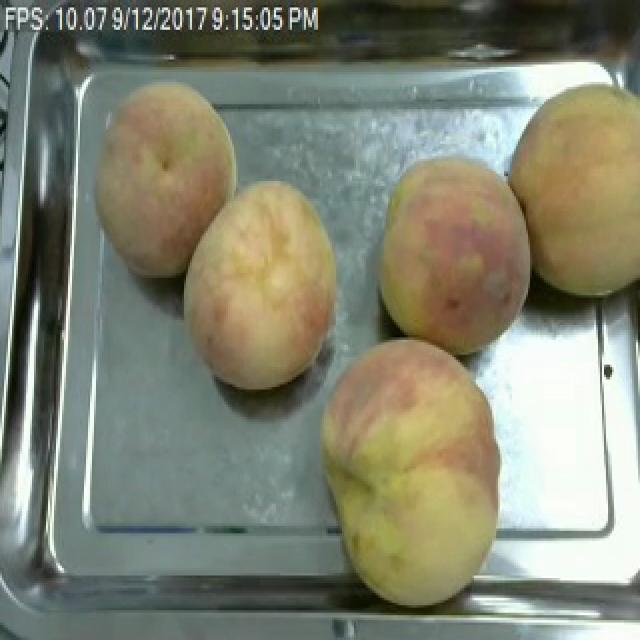Fruit: (304, 328, 516, 616), (172, 176, 348, 400), (366, 146, 542, 365), (80, 69, 248, 288), (500, 72, 640, 310)
